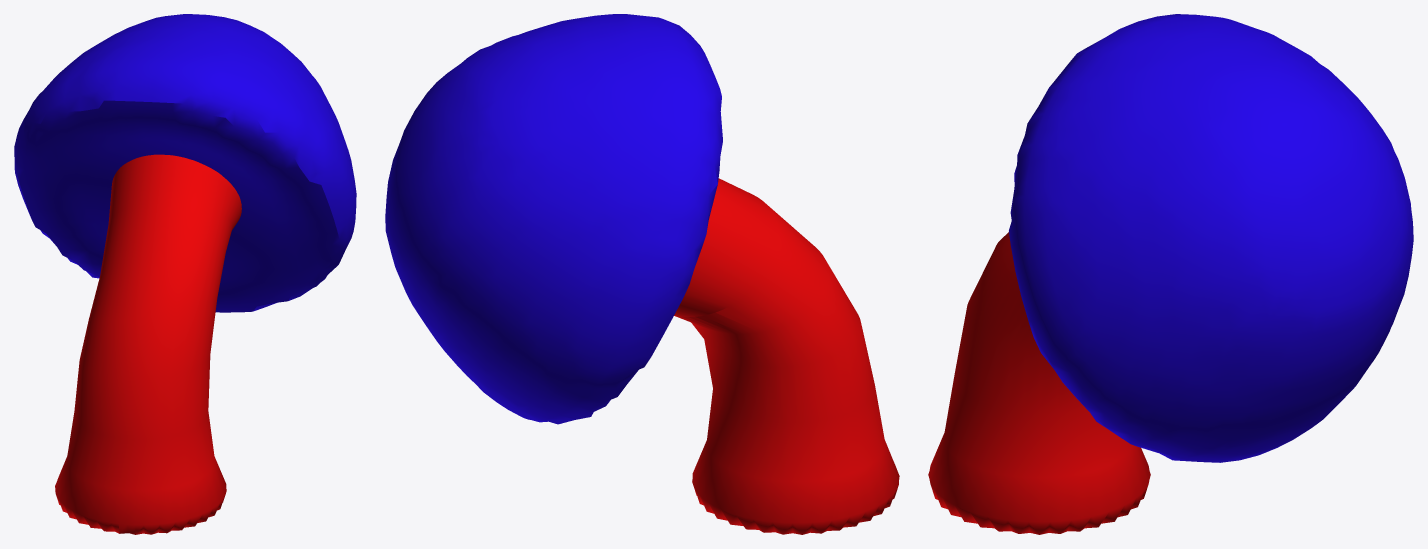
Rendered from LukeMushroom.fbx.
3 renders of one model, left to right at view 1: azimuth 30°, elevation 25°; view 2: azimuth 150°, elevation 25°; view 3: azimuth 270°, elevation 25°, orthographic. The views are drawn at different scales.
Visible parts, largest first — view 1: Lmushhead, Lmushstem; view 2: Lmushhead, Lmushstem; view 3: Lmushhead, Lmushstem.
Part boxes in pixels (box(x1,y1,x2,y2)): Lmushhead: box(14, 14, 356, 312); Lmushstem: box(55, 154, 241, 534); Lmushhead: box(385, 14, 722, 424); Lmushstem: box(674, 178, 899, 534); Lmushhead: box(1009, 14, 1413, 462); Lmushstem: box(928, 232, 1150, 534).
Bounding box in the file's own units: 562 × 671 × 564.
